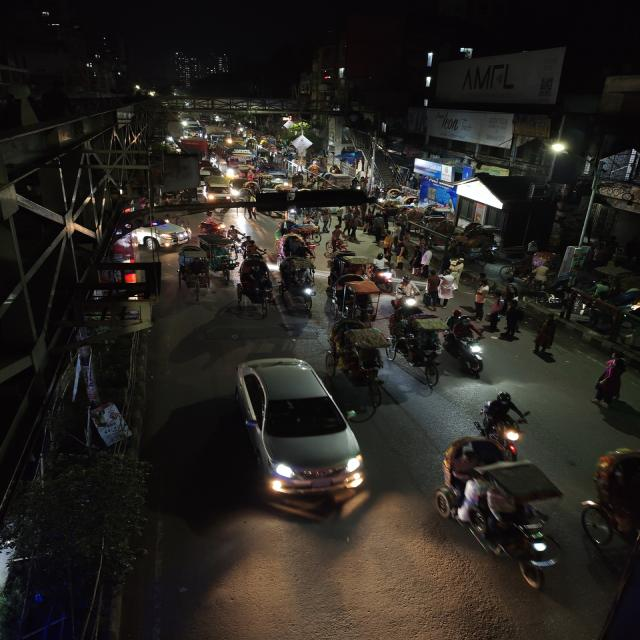bus: (217, 148, 256, 178)
car: (222, 353, 370, 509), (132, 218, 191, 247)
cng: (199, 162, 222, 178)
human_hauler: (202, 178, 236, 204)
motorcycle: (476, 390, 537, 456), (443, 315, 488, 375), (394, 276, 421, 310), (238, 233, 266, 260), (197, 211, 226, 236), (224, 223, 247, 245)
pedestrian: (587, 352, 635, 410), (532, 316, 562, 355), (501, 300, 526, 340), (436, 271, 461, 307), (412, 244, 436, 276), (485, 292, 504, 330), (325, 222, 348, 250), (424, 272, 442, 307), (368, 214, 387, 246), (470, 289, 489, 319), (447, 256, 468, 282), (344, 212, 362, 242), (475, 272, 492, 294)
rickshaw: (430, 433, 572, 589), (581, 445, 639, 640), (326, 316, 387, 398), (390, 313, 446, 383), (328, 273, 382, 323), (228, 258, 276, 313), (173, 246, 214, 297), (278, 257, 318, 309), (203, 234, 236, 276), (278, 232, 316, 262)
